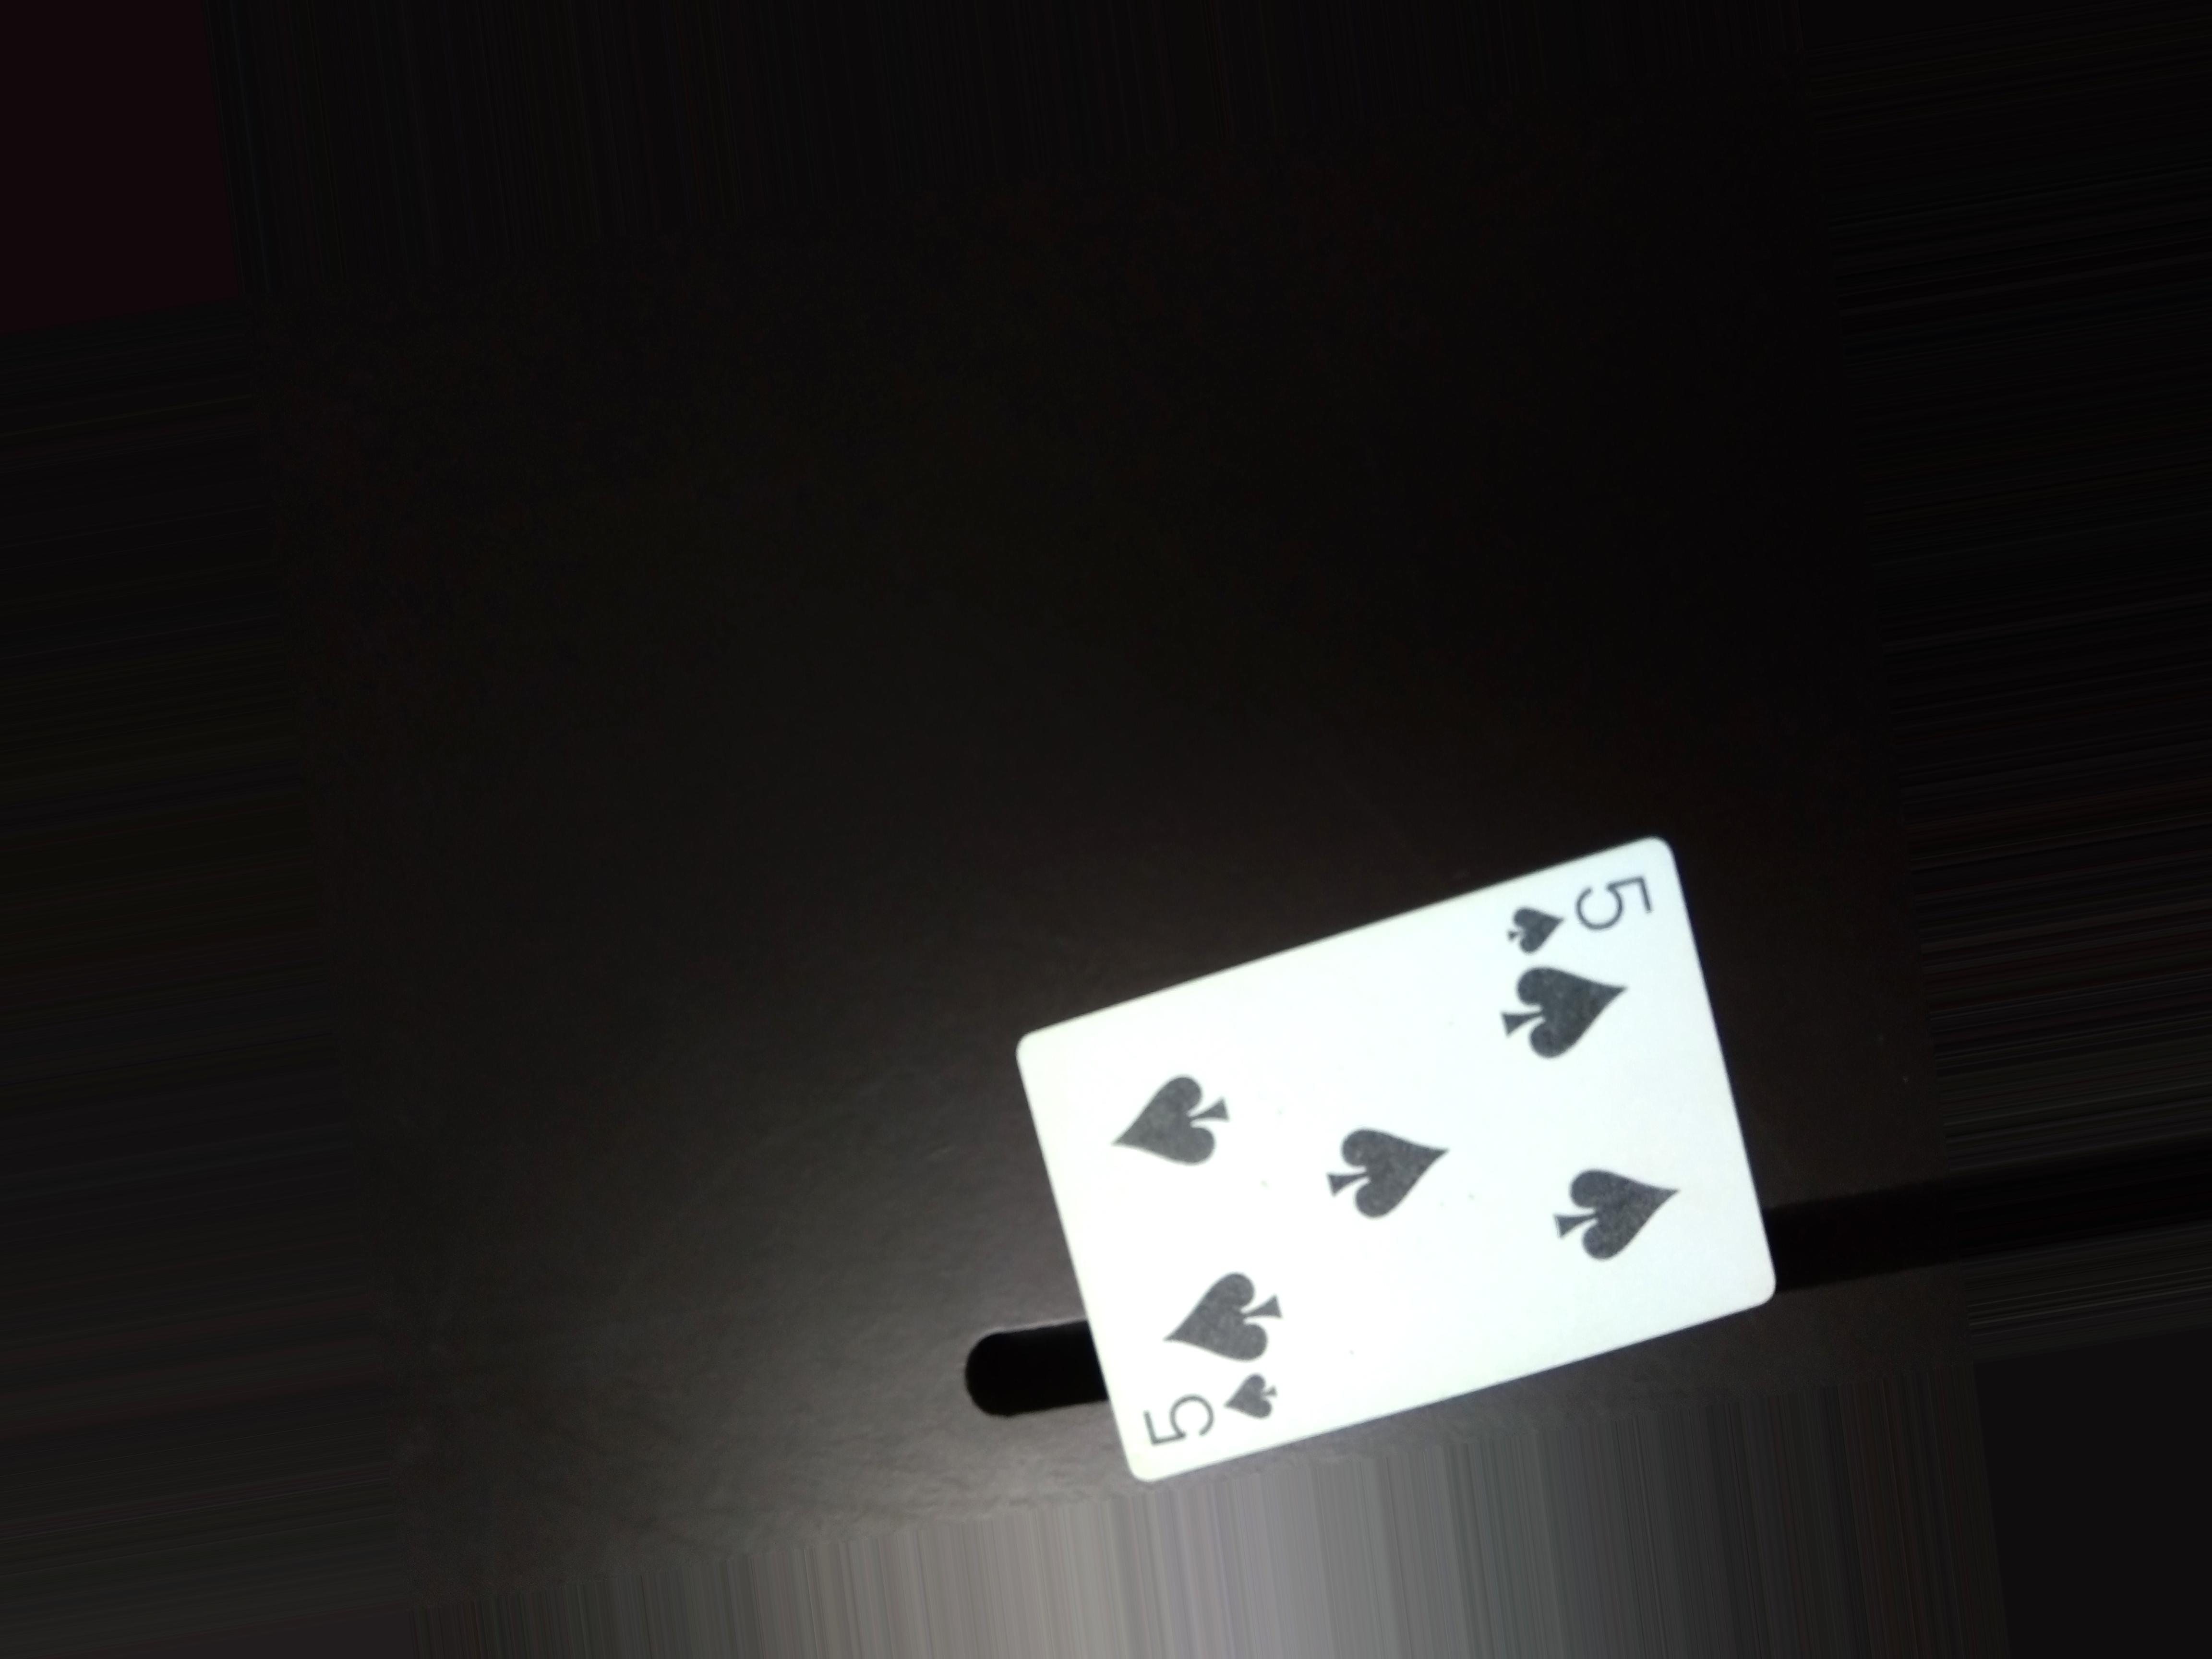5S: (1472, 866, 1667, 955)
